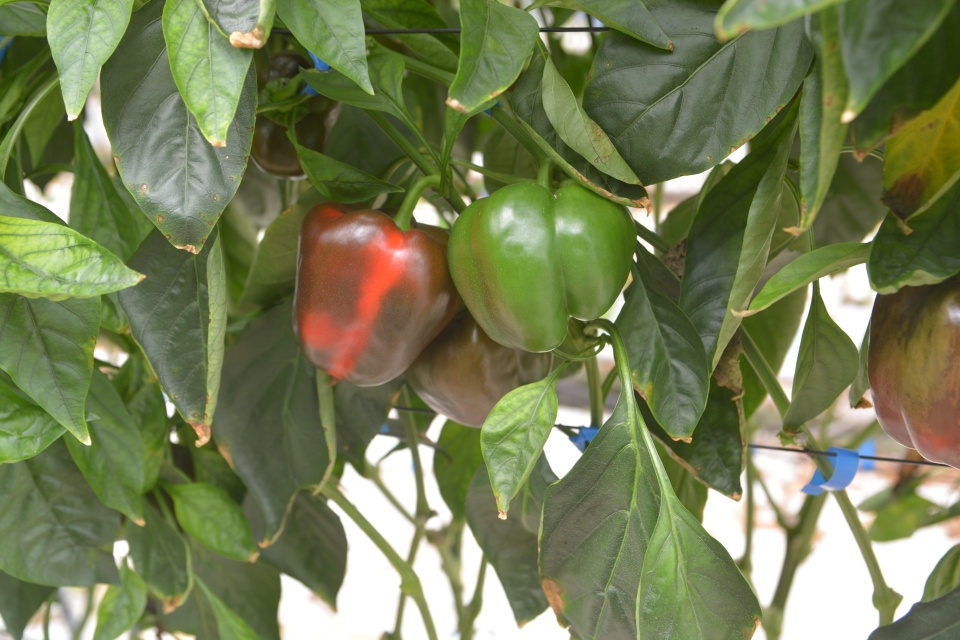fruit: (445, 174, 640, 354), (291, 200, 462, 388), (865, 269, 960, 471), (403, 306, 555, 432), (246, 48, 328, 177)
pedicle: (259, 73, 312, 128)
